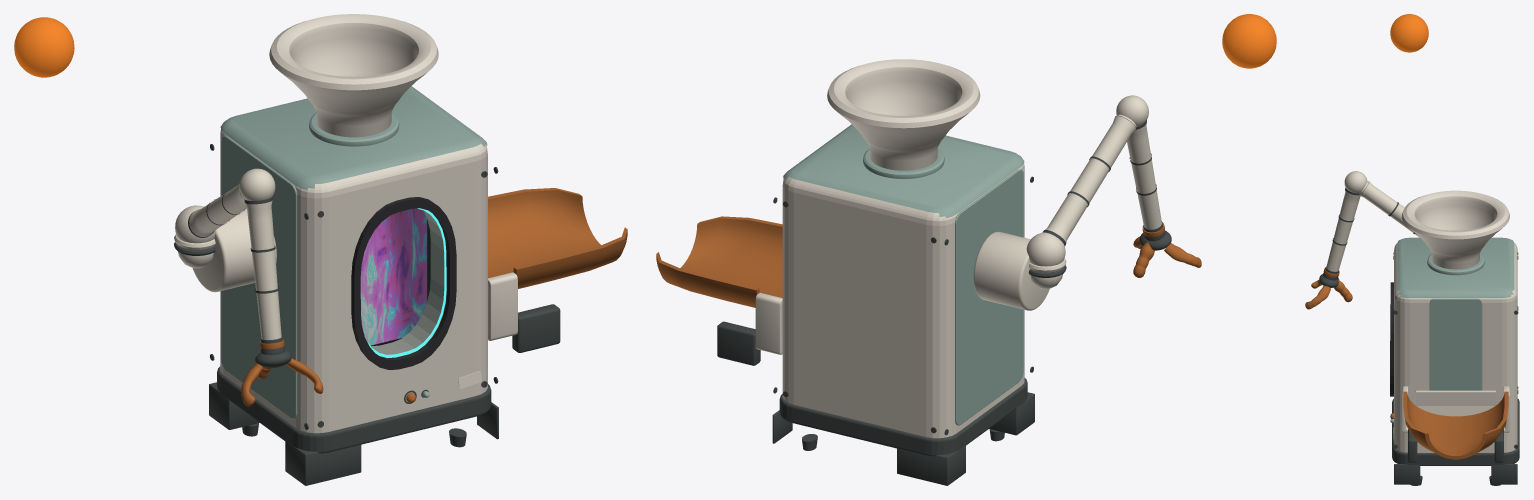
The model's file is hero_animation_v14_p4.glb.
The picture shows the model from 3 angles, left to right: view 1: azimuth 30°, elevation 25°; view 2: azimuth 150°, elevation 25°; view 3: azimuth 270°, elevation 25°; orthographic projection. The views are drawn at different scales.
Visible parts, largest first — view 1: Machine_Body, Machine_Hopper, P3f_TopSkin, Machine_WindowGlass, P1_MintStrip_L, Machine_Chute, P2_Plasma, P1_BaseBand, Machine_WindowFrame, Machine_Base, Arm_Forearm, P1_ShoulderBay (+8 smaller); view 2: Machine_Body, Machine_Hopper, P1_MintStrip_L, P3f_TopSkin, Machine_Chute, P1_BaseBand, P1_ShoulderBay, Machine_Base, Arm_UpperArm, Idea, Arm_Forearm, P1_ChuteSeat (+4 smaller); view 3: Machine_Body, Machine_Hopper, P3f_TopSkin, P1_MintStrip_R, Machine_Chute, Outlet_Flap, P1_BaseBand, Arm_Forearm, Idea, Machine_Base, Arm_UpperArm, Machine_Detail (+5 smaller).
Boxes of the visible parts, left/top/right/bottom form: Machine_Body: left=220, top=130, right=487, bottom=433; Machine_Hopper: left=269, top=14, right=438, bottom=137; P3f_TopSkin: left=220, top=86, right=487, bottom=189; Machine_WindowGlass: left=361, top=209, right=443, bottom=354; P1_MintStrip_L: left=221, top=135, right=297, bottom=419; Machine_Chute: left=488, top=188, right=627, bottom=288; P2_Plasma: left=360, top=208, right=430, bottom=346; P1_BaseBand: left=217, top=366, right=491, bottom=453; Machine_WindowFrame: left=351, top=197, right=456, bottom=369; Machine_Base: left=209, top=382, right=498, bottom=485; Arm_Forearm: left=244, top=197, right=281, bottom=340; P1_ShoulderBay: left=192, top=208, right=276, bottom=292; Machine_Body: left=782, top=164, right=1024, bottom=438; Machine_Hopper: left=827, top=59, right=980, bottom=170; P1_MintStrip_L: left=955, top=169, right=1023, bottom=425; P3f_TopSkin: left=783, top=124, right=1024, bottom=218; Machine_Chute: left=656, top=216, right=782, bottom=307; P1_BaseBand: left=779, top=378, right=1027, bottom=456; P1_ShoulderBay: left=973, top=231, right=1049, bottom=310; Machine_Base: left=772, top=392, right=1034, bottom=485; Arm_UpperArm: left=1042, top=114, right=1136, bottom=245; Idea: left=1222, top=14, right=1276, bottom=68; Arm_Forearm: left=1127, top=120, right=1161, bottom=229; P1_ChuteSeat: left=755, top=292, right=782, bottom=354; Machine_Body: left=1394, top=243, right=1517, bottom=452; Machine_Hopper: left=1402, top=190, right=1509, bottom=269; P3f_TopSkin: left=1397, top=237, right=1514, bottom=297; P1_MintStrip_R: left=1429, top=298, right=1482, bottom=390; Machine_Chute: left=1403, top=391, right=1508, bottom=459; Outlet_Flap: left=1415, top=390, right=1496, bottom=416; P1_BaseBand: left=1392, top=398, right=1519, bottom=465; Arm_Forearm: left=1326, top=188, right=1360, bottom=271; Idea: left=1390, top=14, right=1428, bottom=52; Machine_Base: left=1394, top=464, right=1517, bottom=484; Arm_UpperArm: left=1359, top=181, right=1419, bottom=237; Machine_Detail: left=1408, top=429, right=1503, bottom=462.
Size of the model in its own units: 5.93 by 4.82 by 2.77.
13 materials, 2 textured.
